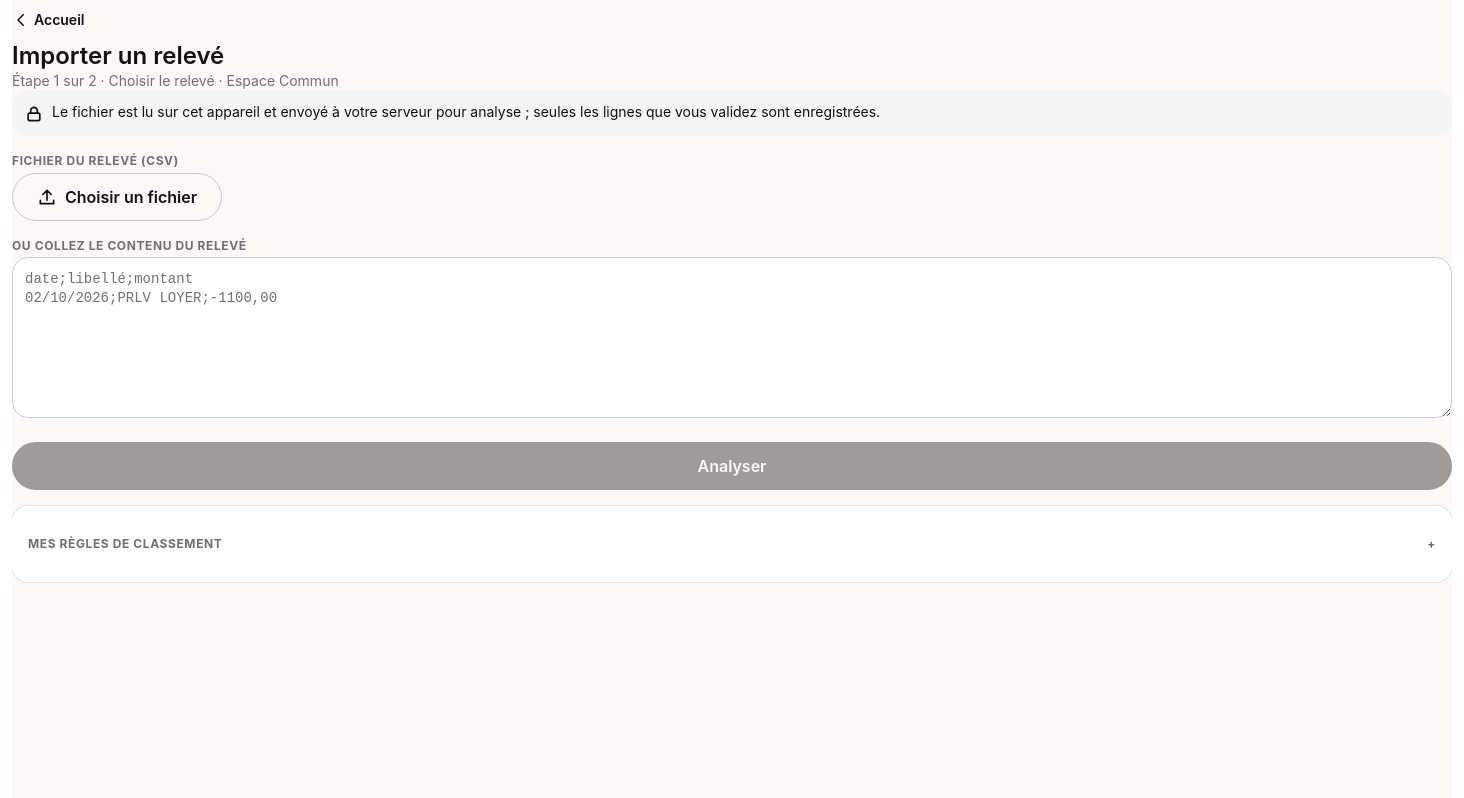
ImportPage › rules section › refuses a keyword that is too short or already used
Click the button "Mes règles de classement +".
click(125, 543)  # box [28,522,1436,566]
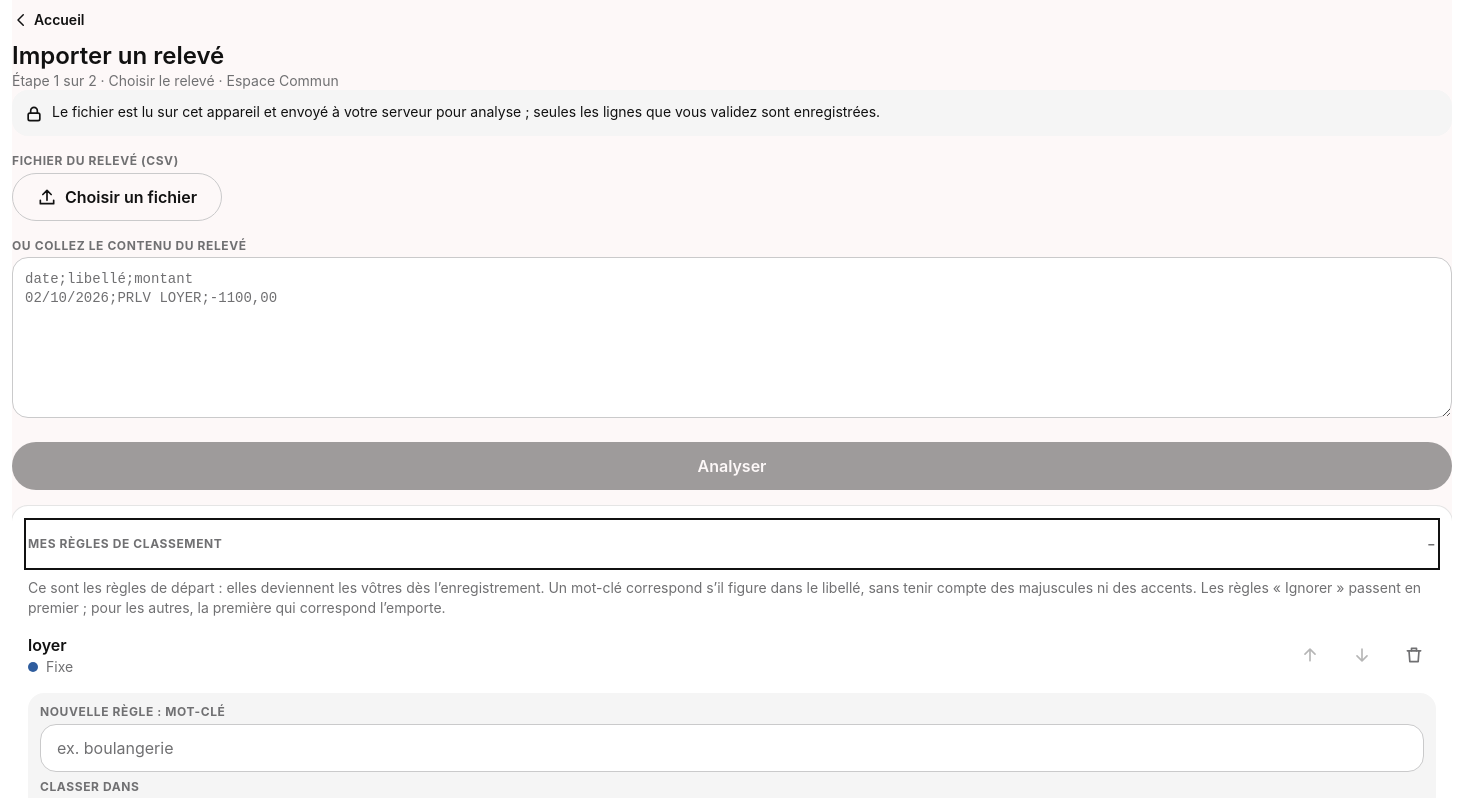
Expected: the text "règles de départ" is shown, [28,579,544,596]
Type "x" into the field labelled "Nouvelle règle : mot-clé".
click(732, 748); type("x")  # box [40,724,1424,772]
(page scrolled)
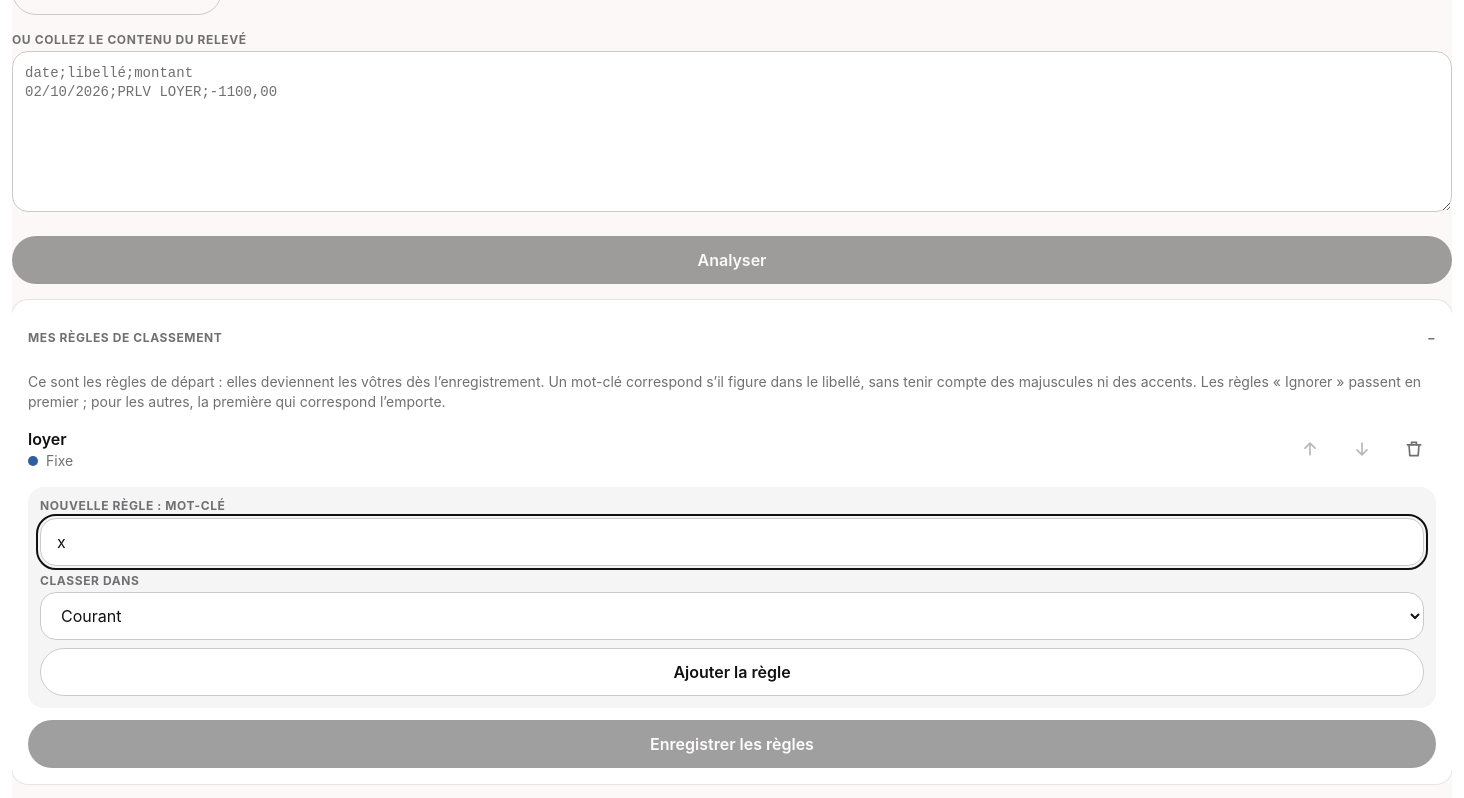
Click the button "Ajouter la règle".
click(732, 672)  # box [40,648,1424,696]
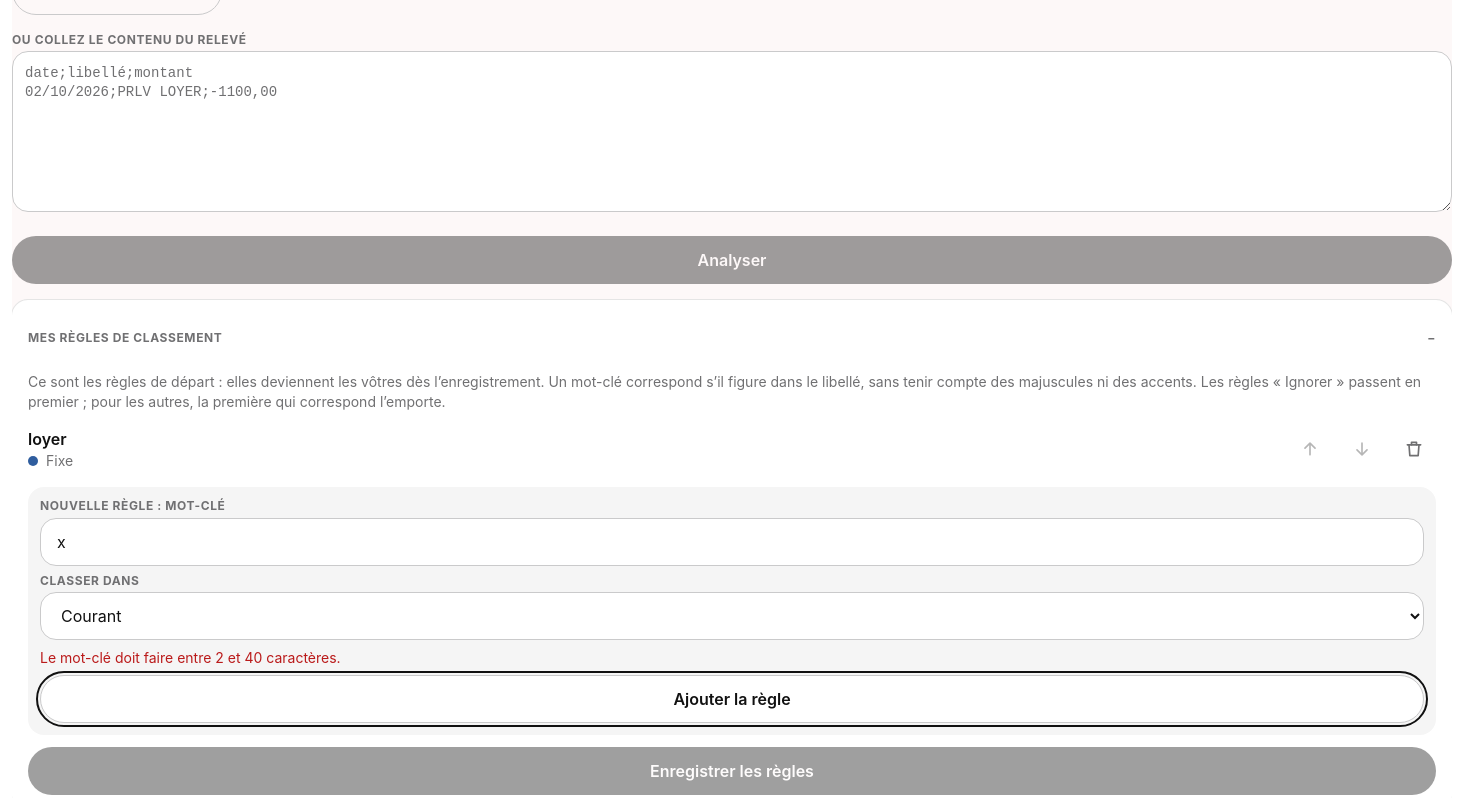
Expected: the message shows "entre 2 et 40", [40,649,341,666]
Replace the text in the field labelled "Nouvelle règle : mot-clé" with "LOYER" at [732, 542], box [40,518,1424,566]
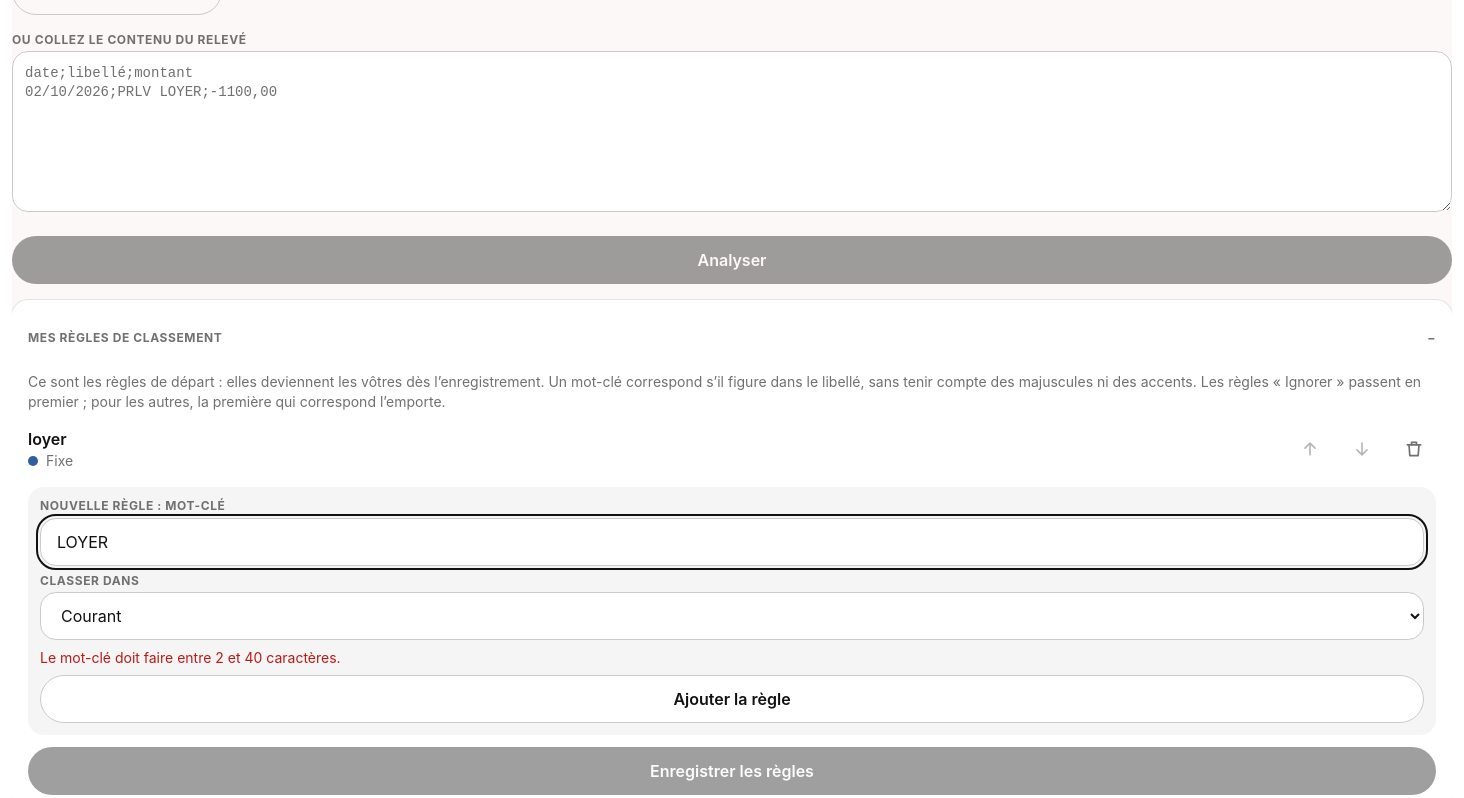
Click the button "Ajouter la règle".
click(732, 700)  # box [40,676,1424,724]
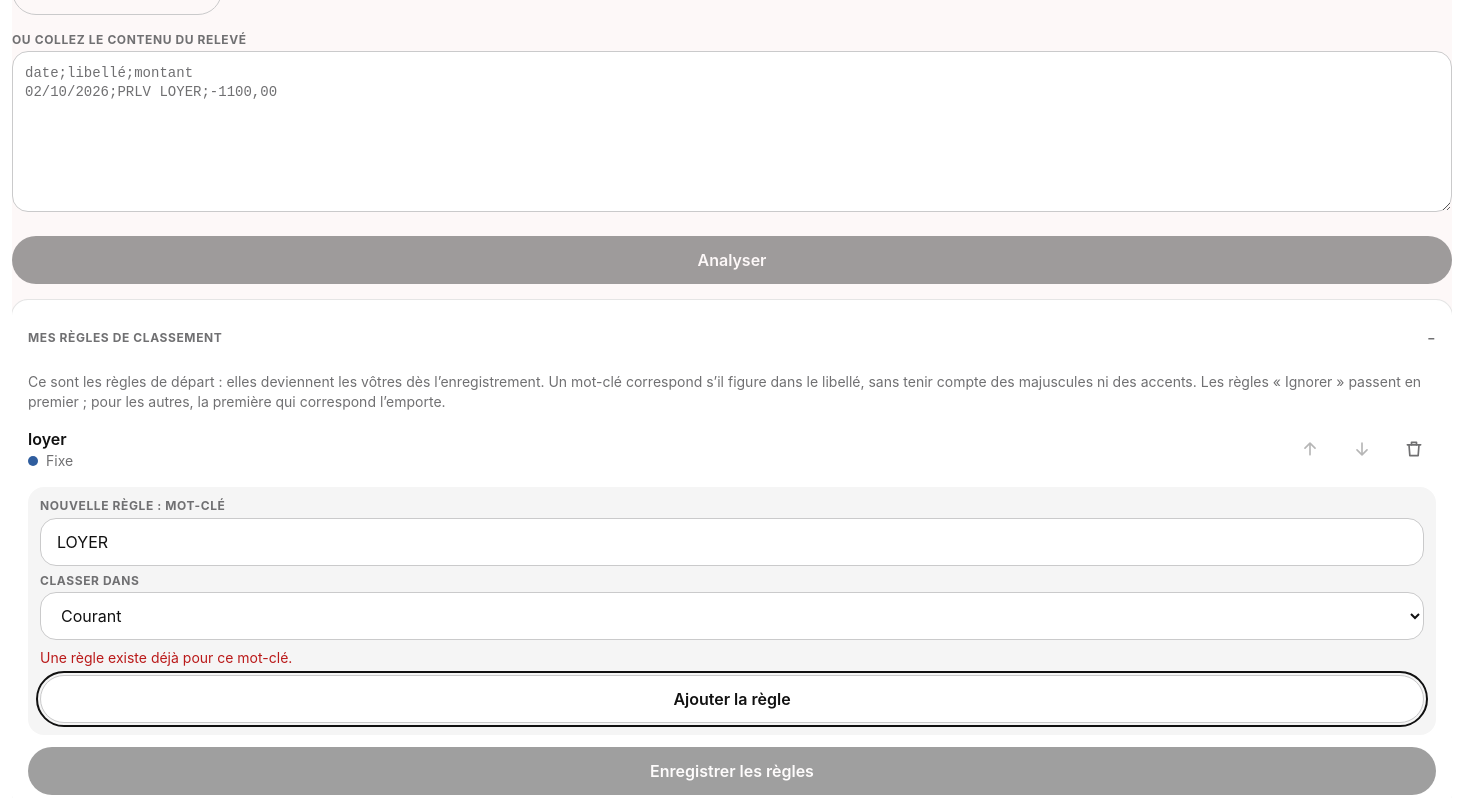
Expected: the message shows "existe déjà", [40,649,292,666]
